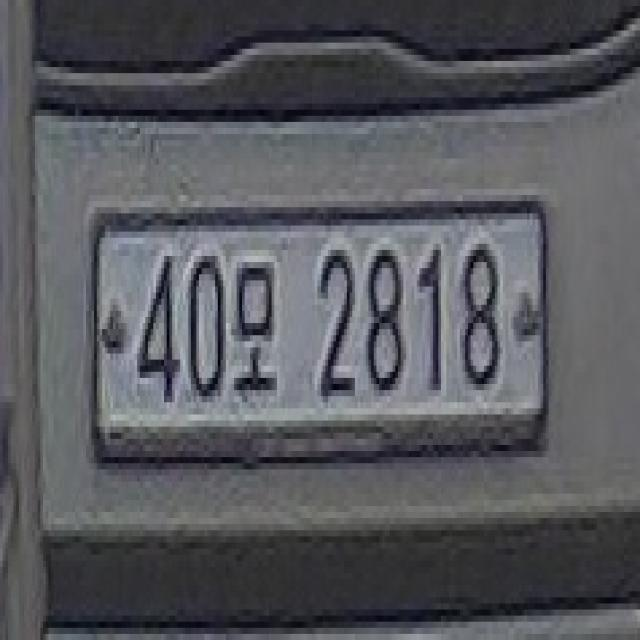0: (183, 250, 226, 402)
1: (417, 244, 444, 396)
2: (314, 250, 358, 402)
4: (132, 250, 183, 408)
8: (457, 225, 503, 402), (366, 238, 406, 402)
license_plate: (89, 201, 551, 457)
mo: (231, 256, 277, 402)
